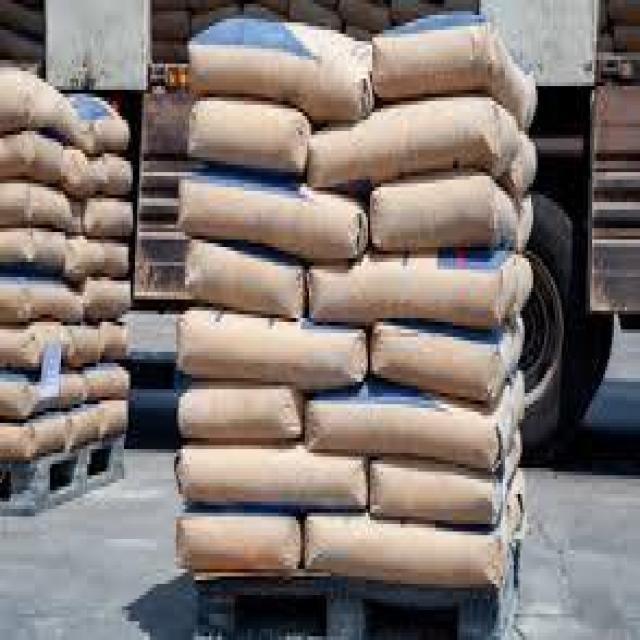gunny_bag: (306, 373, 529, 478), (189, 12, 376, 122), (314, 97, 522, 191), (372, 9, 538, 121), (178, 165, 368, 260), (308, 248, 530, 328), (177, 303, 367, 390), (305, 512, 506, 584), (373, 313, 523, 401), (176, 447, 365, 512), (372, 177, 519, 255), (187, 94, 312, 172), (185, 243, 304, 323), (370, 466, 504, 531), (1, 74, 96, 152), (180, 383, 303, 442), (179, 512, 301, 570), (1, 134, 71, 188), (1, 279, 81, 324), (1, 183, 72, 233), (2, 411, 68, 462), (70, 93, 129, 150), (1, 326, 77, 370), (1, 227, 67, 275), (81, 199, 136, 238), (81, 280, 130, 321), (41, 371, 87, 411), (68, 403, 104, 452), (86, 361, 128, 402), (66, 239, 104, 281), (96, 153, 132, 194), (102, 399, 129, 435), (105, 244, 128, 278)
